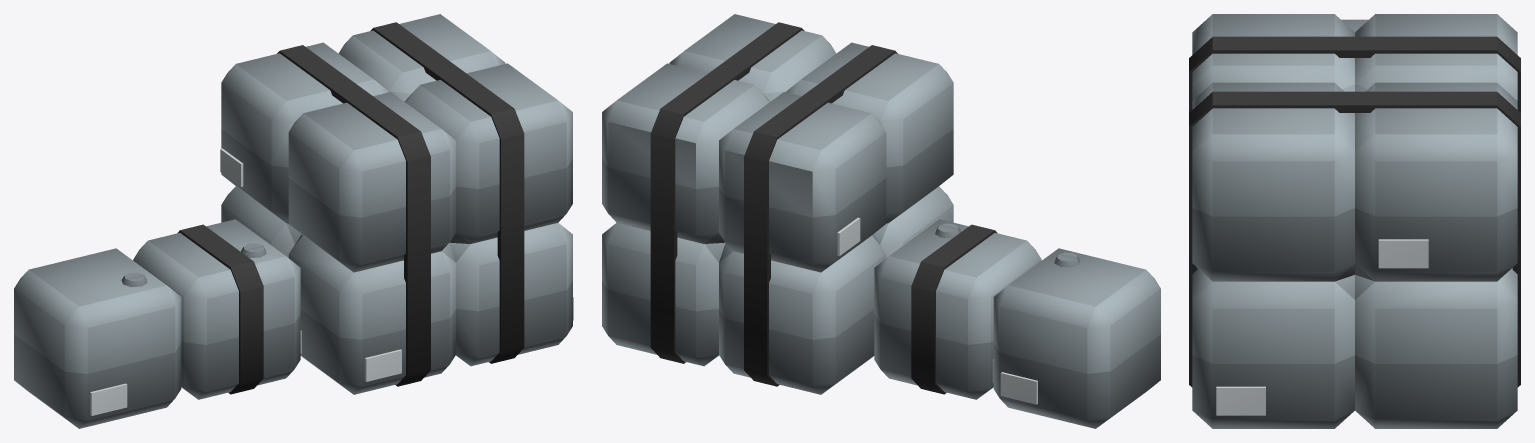
Rendered from cargo.glb.
3 renders of one model, left to right at view 1: azimuth 30°, elevation 25°; view 2: azimuth 150°, elevation 25°; view 3: azimuth 270°, elevation 25°, orthographic. The views are drawn at different scales.
Visible parts, largest first — view 1: cargo_B_stacked, cargo_B, cargo_B_packed; view 2: cargo_B_stacked, cargo_B, cargo_B_packed; view 3: cargo_B_stacked.
Part boxes in pixels (x1,y1,x2,y2): cargo_B_stacked: (220,14,573,394); cargo_B: (14,248,181,428); cargo_B_packed: (133,219,301,399); cargo_B_stacked: (602,14,953,394); cargo_B: (993,248,1160,428); cargo_B_packed: (874,219,1041,399); cargo_B_stacked: (1189,14,1520,428).
Bounding box in the file's own units: 2.04 × 1.02 × 1.02.
1 material, 1 textured.
